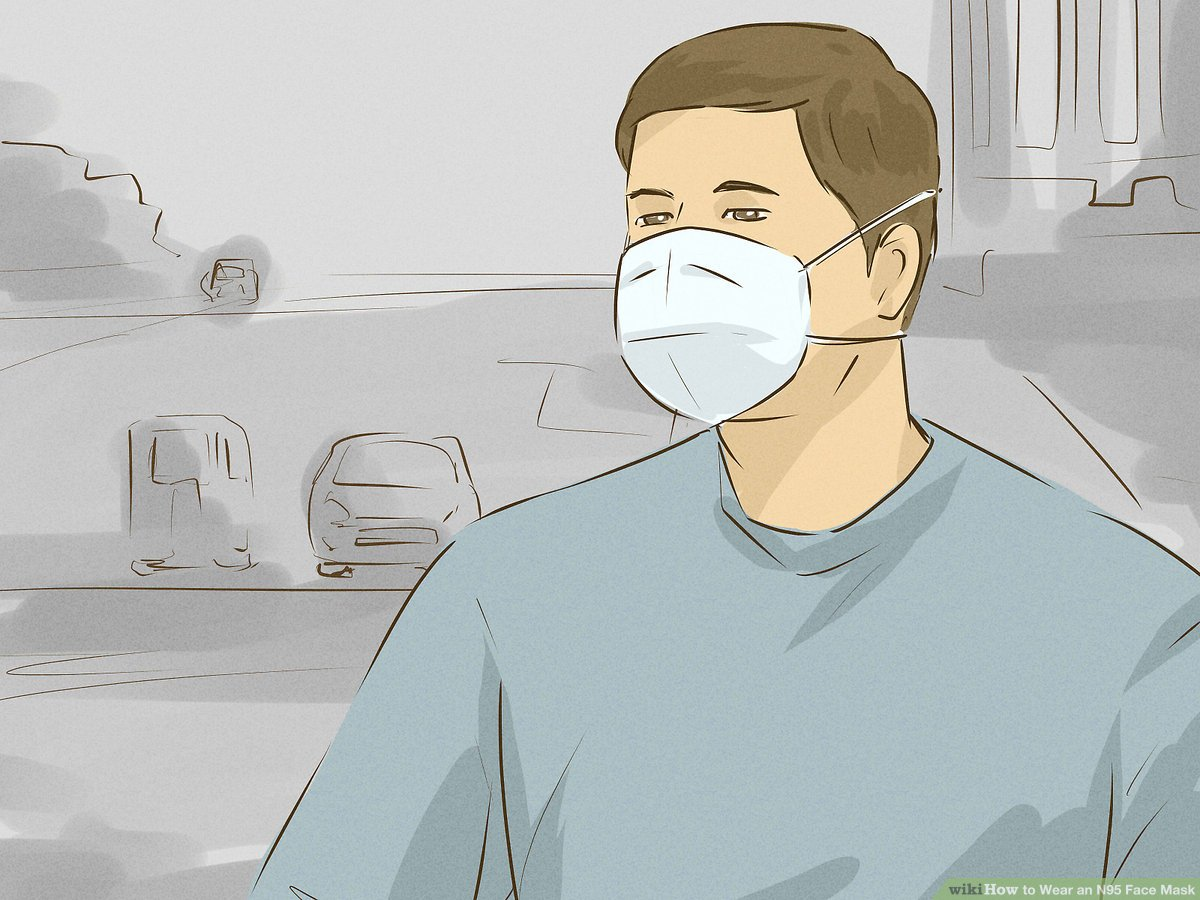mask: (606, 226, 826, 430)
